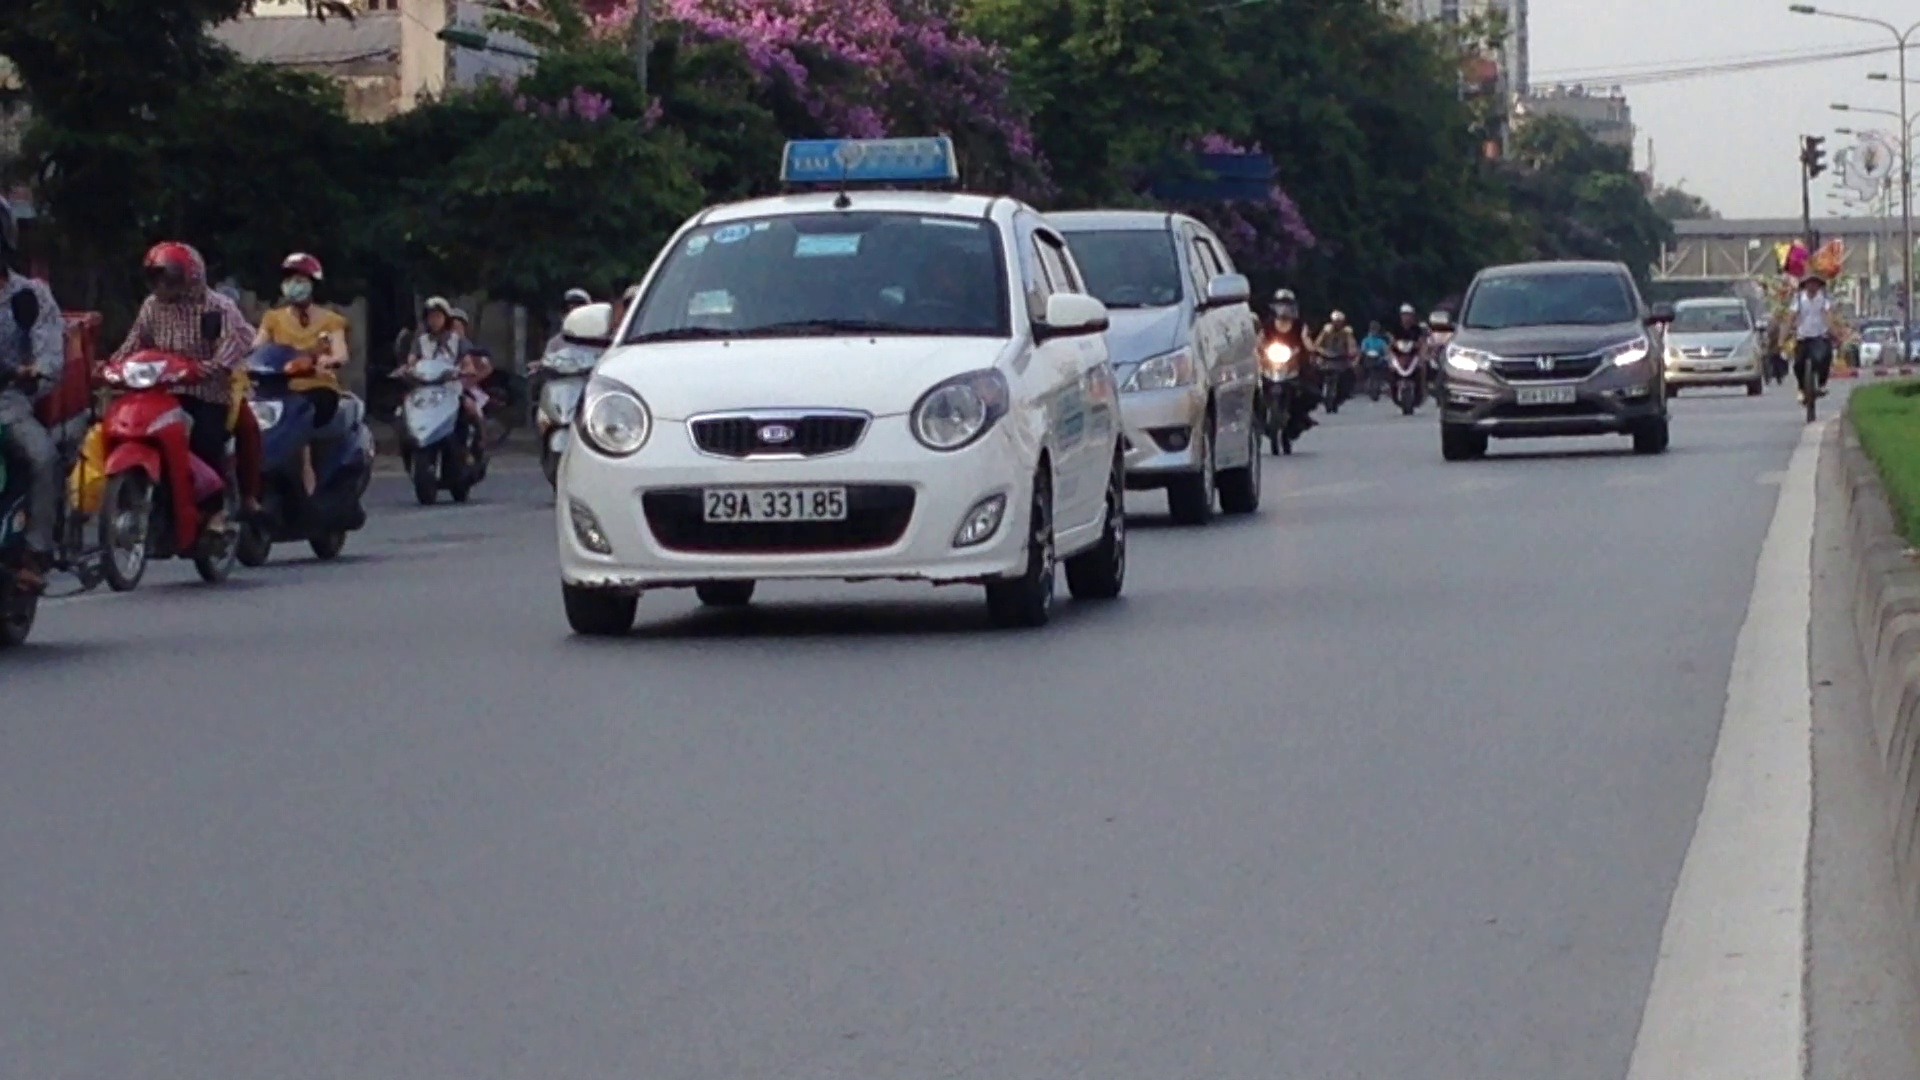person: (696, 482, 854, 524), (1512, 384, 1579, 406)
